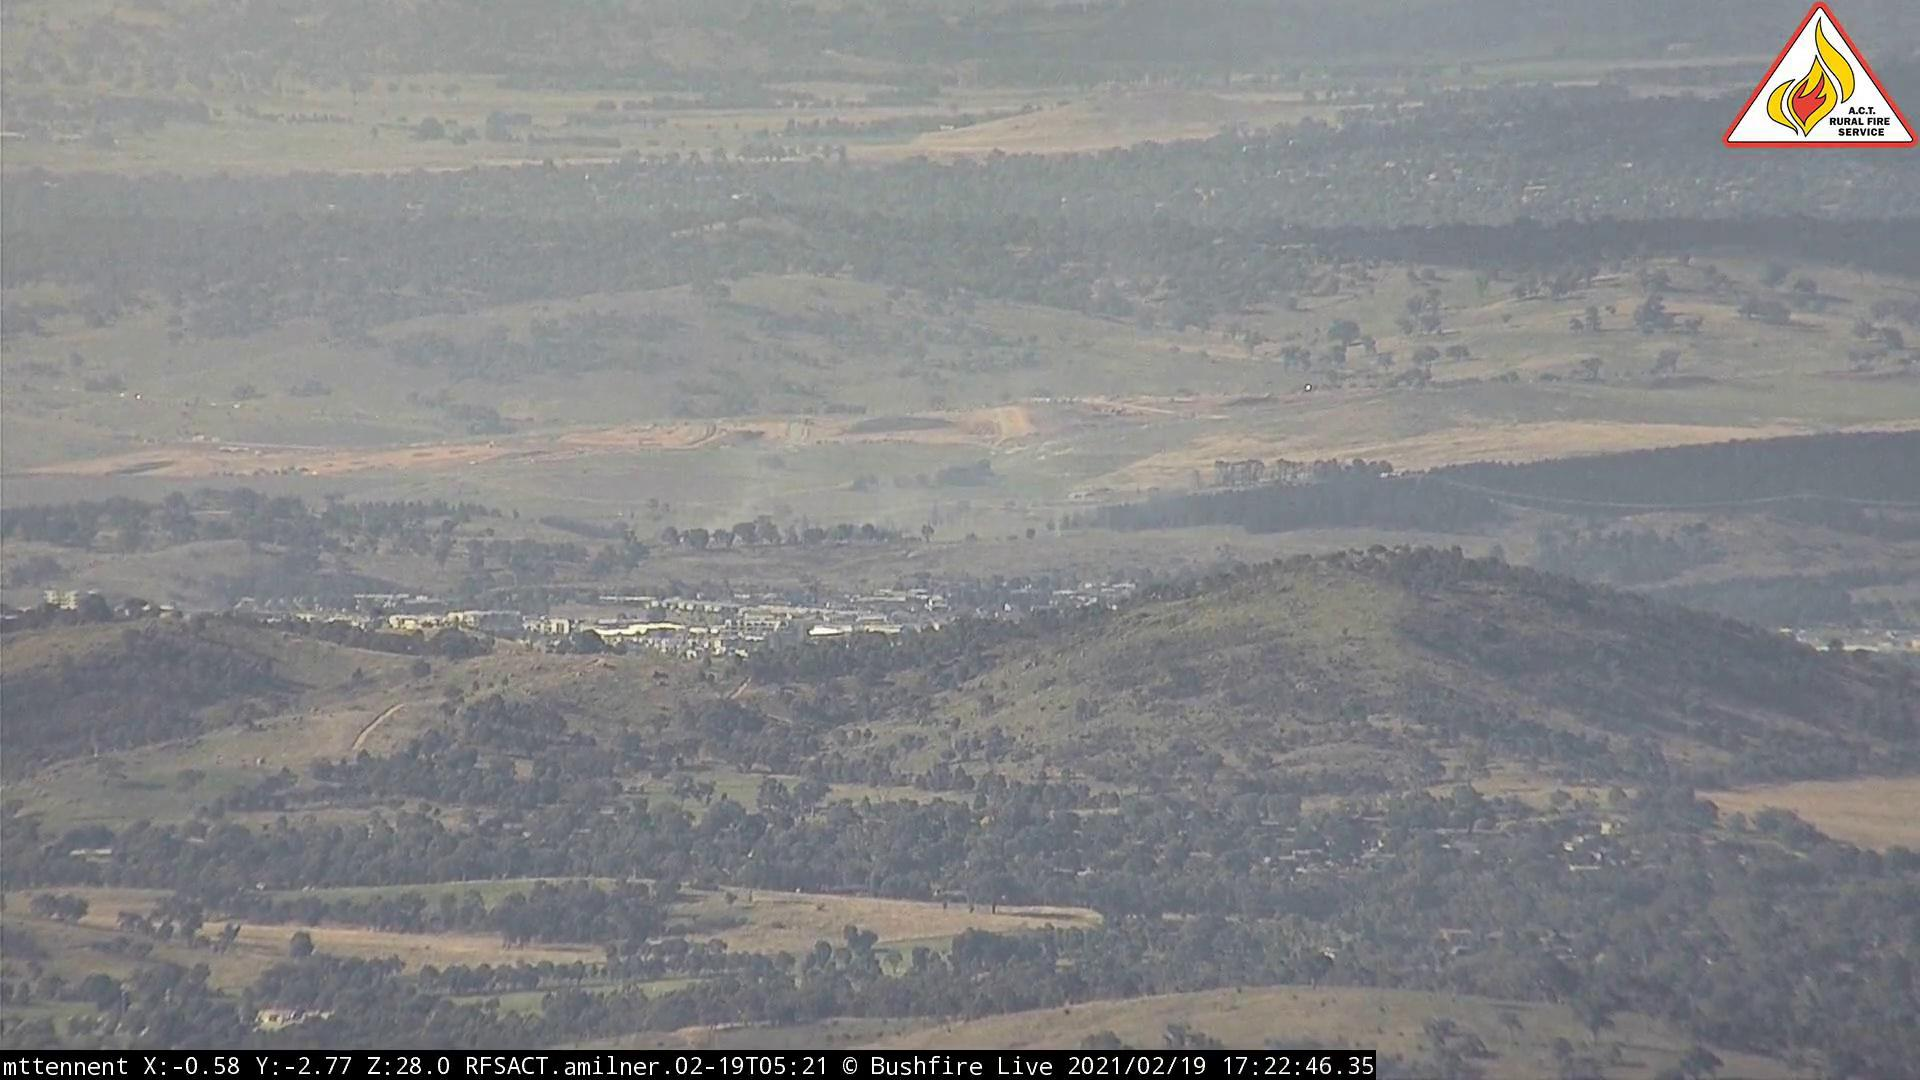Smoke: (673, 425, 878, 553), (1051, 491, 1127, 549)
